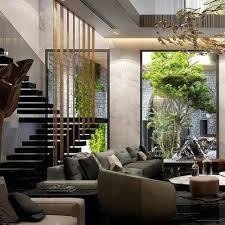chair: (98, 170, 178, 223), (0, 180, 86, 225), (0, 52, 32, 157), (190, 174, 219, 198), (163, 156, 196, 173), (201, 156, 225, 173)
light: (111, 31, 121, 37)
sofa: (48, 144, 165, 182)
table: (170, 174, 225, 221), (20, 185, 102, 208)
